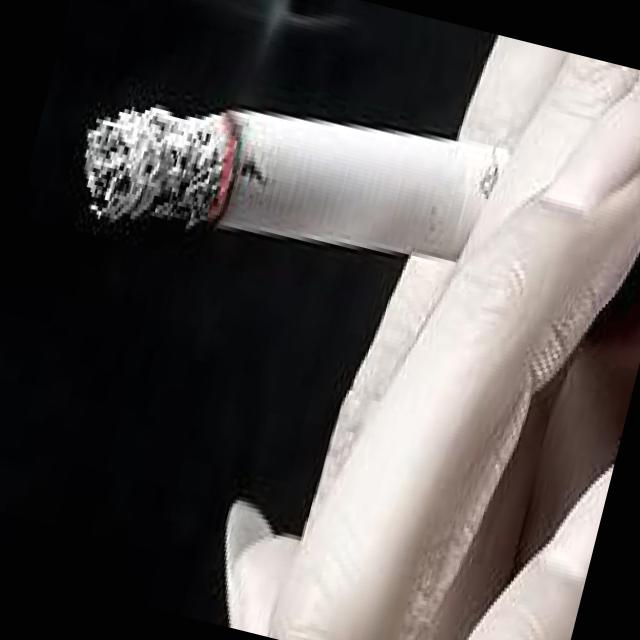smoke: (66, 34, 494, 310)
